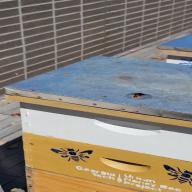Bee: (123, 91, 153, 101)
